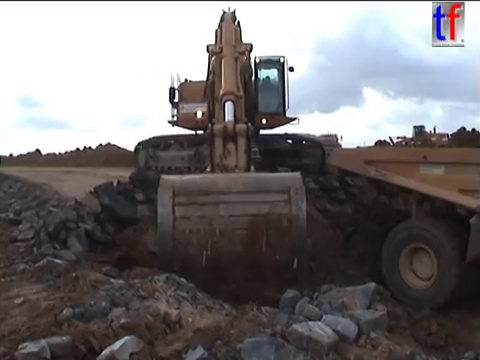excavator: (131, 4, 343, 286)
truck: (324, 142, 480, 314)
wheel loader: (372, 122, 456, 157)
